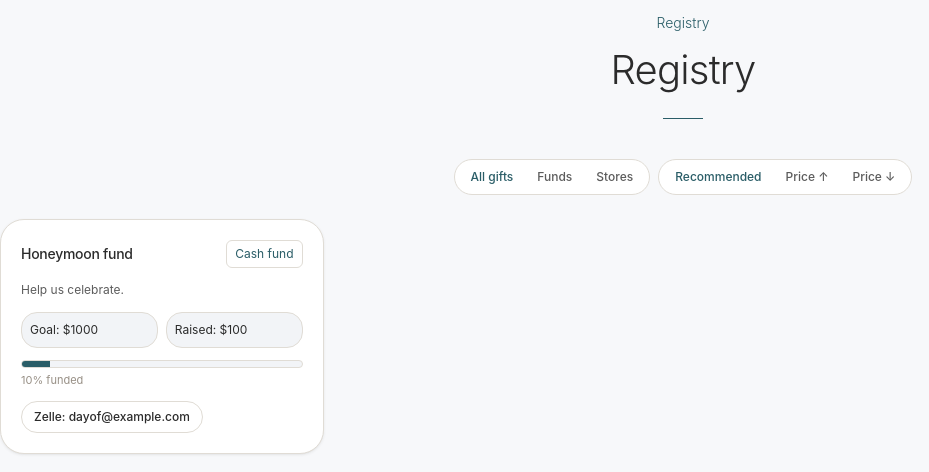
Test case: RegistrySection › resets public cash-fund copy state when the visible contribution handle changes
Later steps or results of the test are not shown.
Click the button "Zelle: dayof@example.com".
click(112, 418)  # box [21,402,203,434]
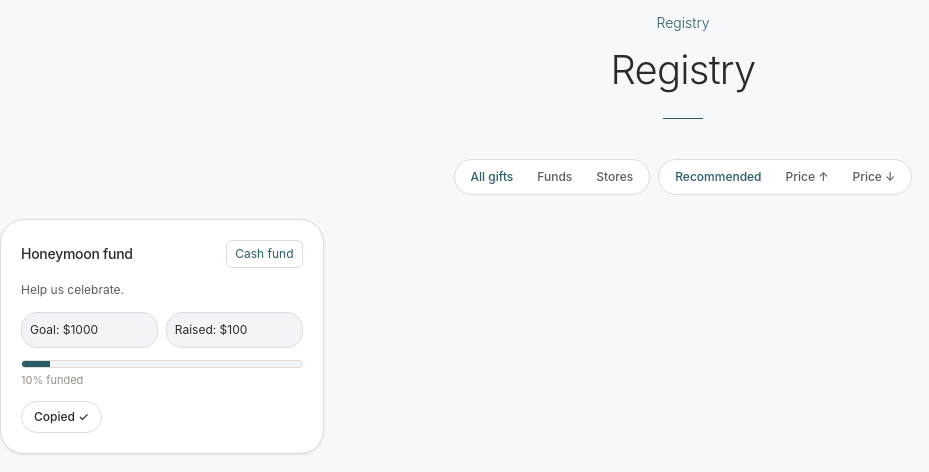
Expected: the button "Copied ✓" is shown, [21,402,102,434]
